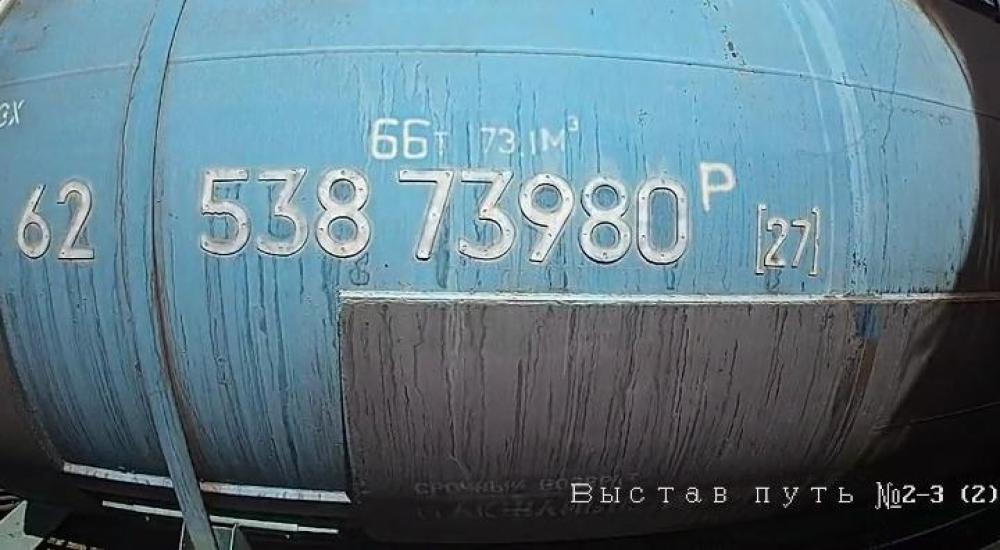Wagon-number: (194, 162, 694, 272)
